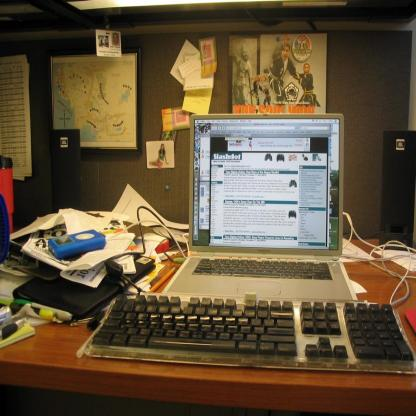board: (162, 114, 359, 303)
